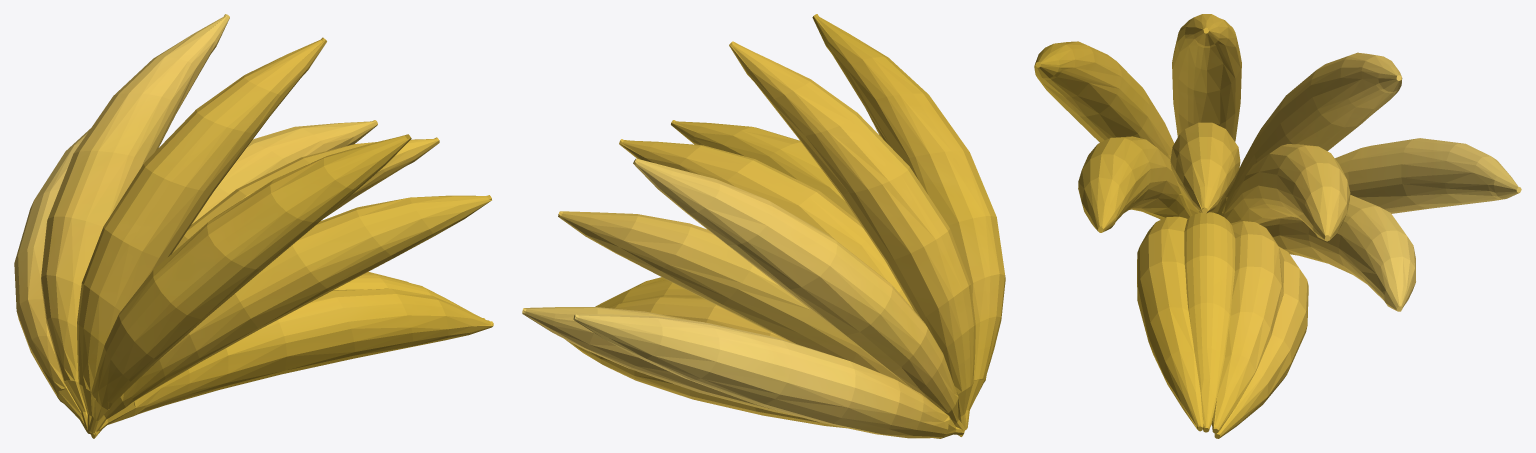
The model's file is terttu.FBX.
The picture shows the model from 3 angles, left to right: view 1: azimuth 30°, elevation 25°; view 2: azimuth 150°, elevation 25°; view 3: azimuth 270°, elevation 25°; orthographic projection.
Parts seen in each view (by area): view 1: Cylinder; view 2: Cylinder; view 3: Cylinder.
Boxes of the visible parts, x1,y1,x2,y2 form: Cylinder: [14, 14, 493, 438]; Cylinder: [522, 14, 1005, 438]; Cylinder: [1034, 14, 1521, 438].
Size of the model in its own units: 82.37 by 66.32 by 86.1.
